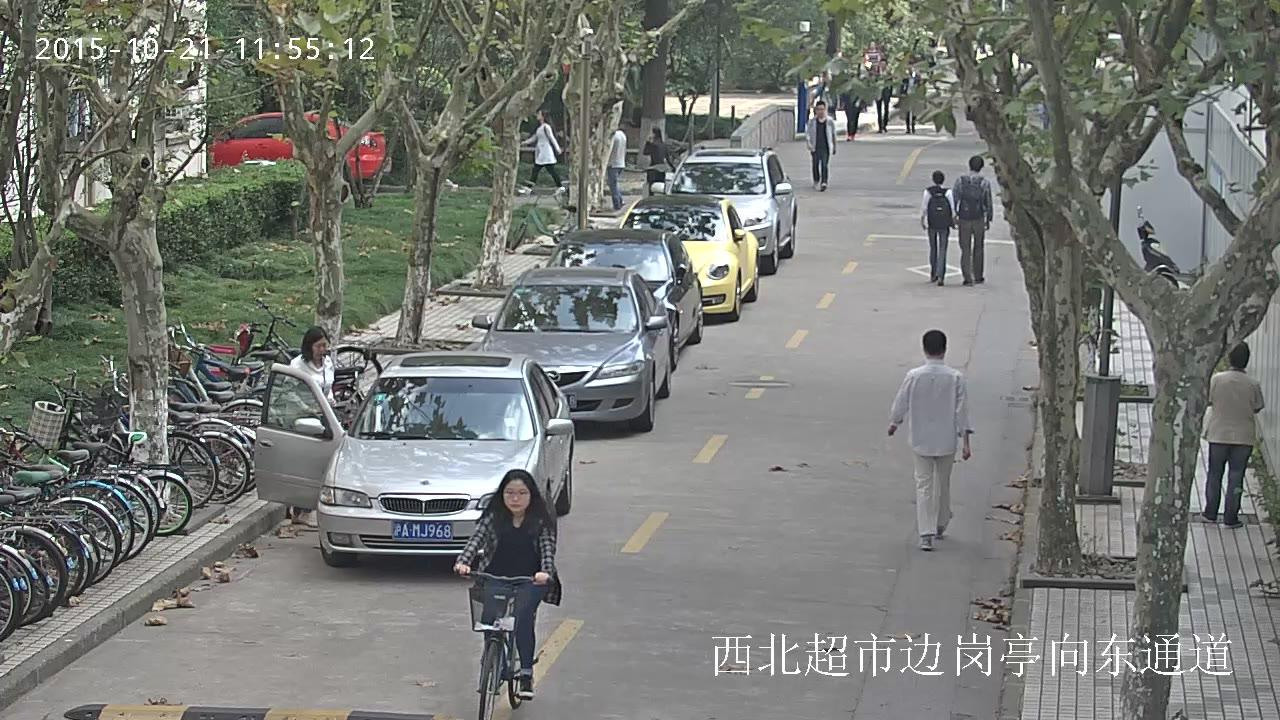person: (453, 468, 560, 720), (454, 468, 561, 696), (888, 329, 972, 551), (1202, 341, 1263, 528), (282, 326, 334, 527), (952, 155, 992, 285), (921, 170, 953, 286), (521, 108, 563, 193), (805, 101, 836, 191), (642, 127, 674, 194), (605, 129, 626, 209), (900, 78, 919, 134), (842, 90, 862, 142), (877, 89, 890, 133)
